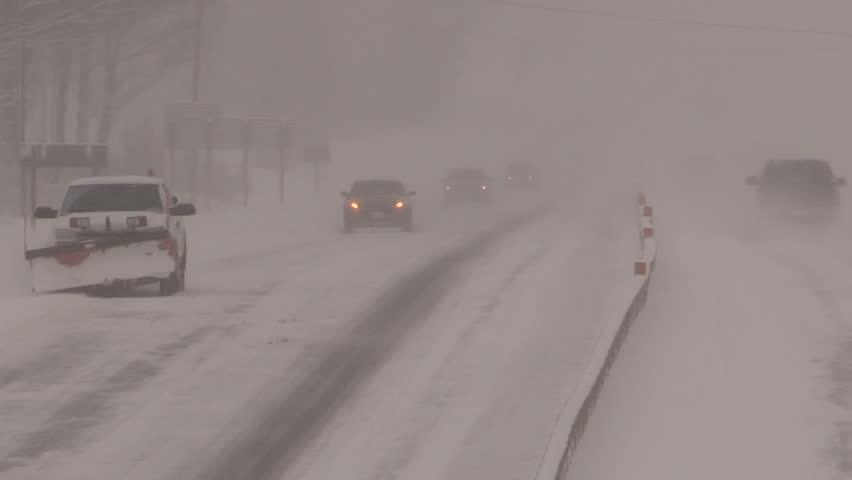car: (31, 176, 198, 299), (744, 157, 849, 229), (340, 179, 417, 234), (442, 166, 493, 204), (502, 159, 541, 187)
